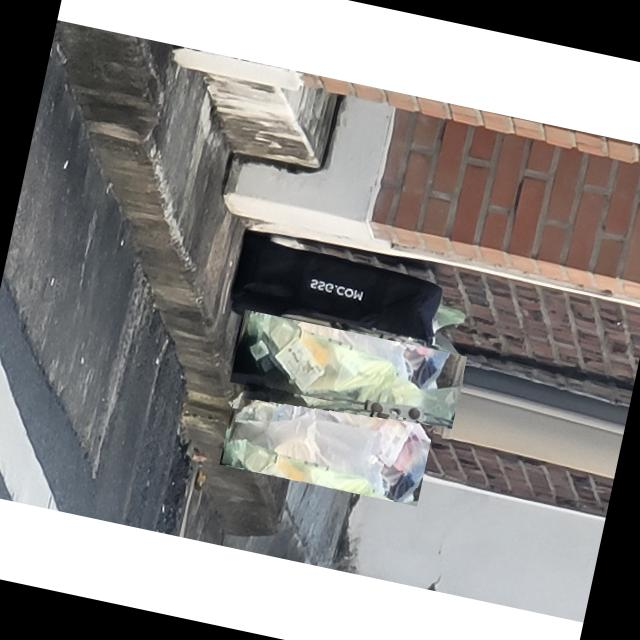general_trashbag: (233, 310, 459, 418)
other_trashbag: (232, 365, 431, 500)
